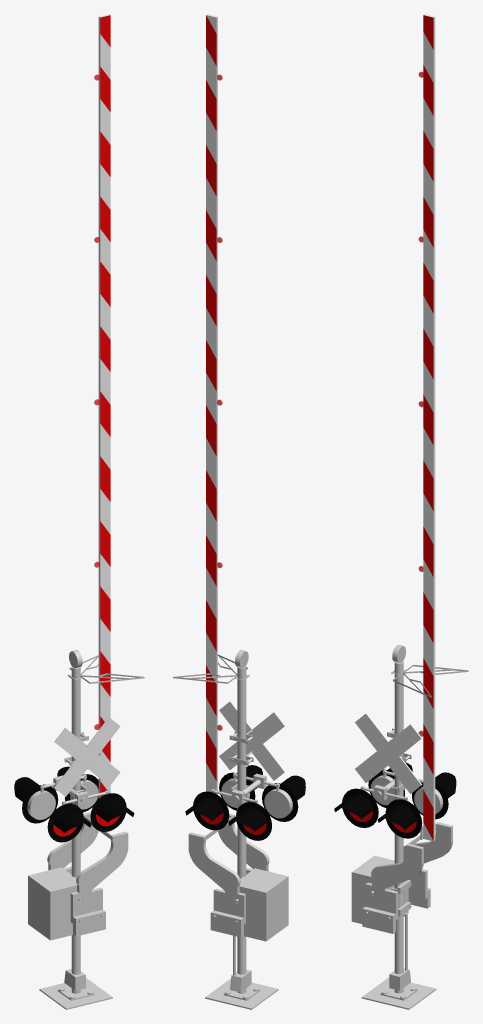
File: FF_Model_ID2055_1_Railroad_Crossing_FBX.fbx
The picture shows the model from 3 angles, left to right: view 1: azimuth 30°, elevation 25°; view 2: azimuth 150°, elevation 25°; view 3: azimuth 330°, elevation 25°; orthographic projection.
Parts seen in each view (by area): view 1: Model, Group1, Group8, Group_4_3, Group_4_1, Group_4_2, Group_4_4; view 2: Model, Group1, Group8, Group_4_1, Group_4_3, Group_4_4, Group_4_2; view 3: Group1, Model, Group8, Group_4_2, Group_4_1, Group_4_4, Group_4_3.
Boxes of the visible parts, x1,y1,x2,y2 form: Model: [28, 655, 144, 1009]; Group1: [98, 14, 110, 798]; Group8: [54, 717, 120, 796]; Group_4_3: [14, 777, 58, 823]; Group_4_1: [47, 803, 91, 842]; Group_4_2: [90, 793, 134, 831]; Group_4_4: [57, 766, 98, 812]; Model: [173, 654, 288, 1009]; Group1: [206, 14, 217, 794]; Group8: [219, 701, 285, 780]; Group_4_1: [262, 775, 305, 821]; Group_4_3: [228, 802, 271, 840]; Group_4_4: [185, 791, 229, 830]; Group_4_2: [219, 765, 262, 810]; Group1: [423, 14, 435, 841]; Model: [351, 661, 468, 1009]; Group8: [355, 713, 421, 793]; Group_4_2: [377, 799, 422, 838]; Group_4_1: [334, 788, 378, 827]; Group_4_4: [412, 772, 456, 819]; Group_4_3: [368, 763, 412, 808].
Bounding box in the file's own units: 35.94 × 359 × 41.38.
